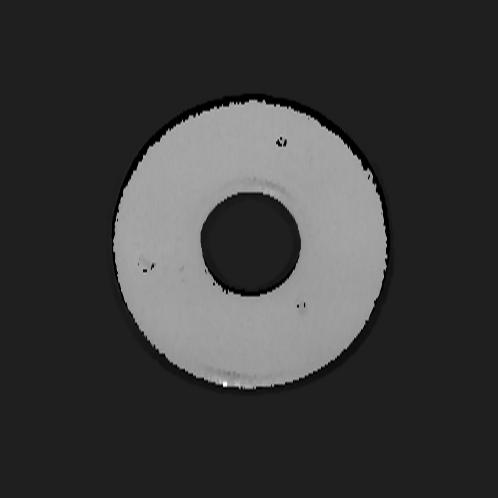defect: (138, 254, 156, 275), (295, 297, 308, 315), (276, 135, 288, 149)
